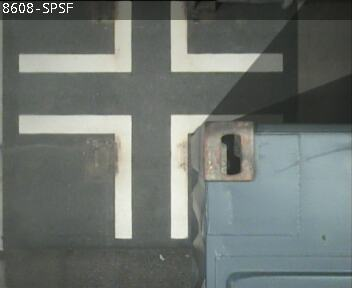groundmarker_1: (18, 115, 278, 236), (19, 1, 282, 71)
